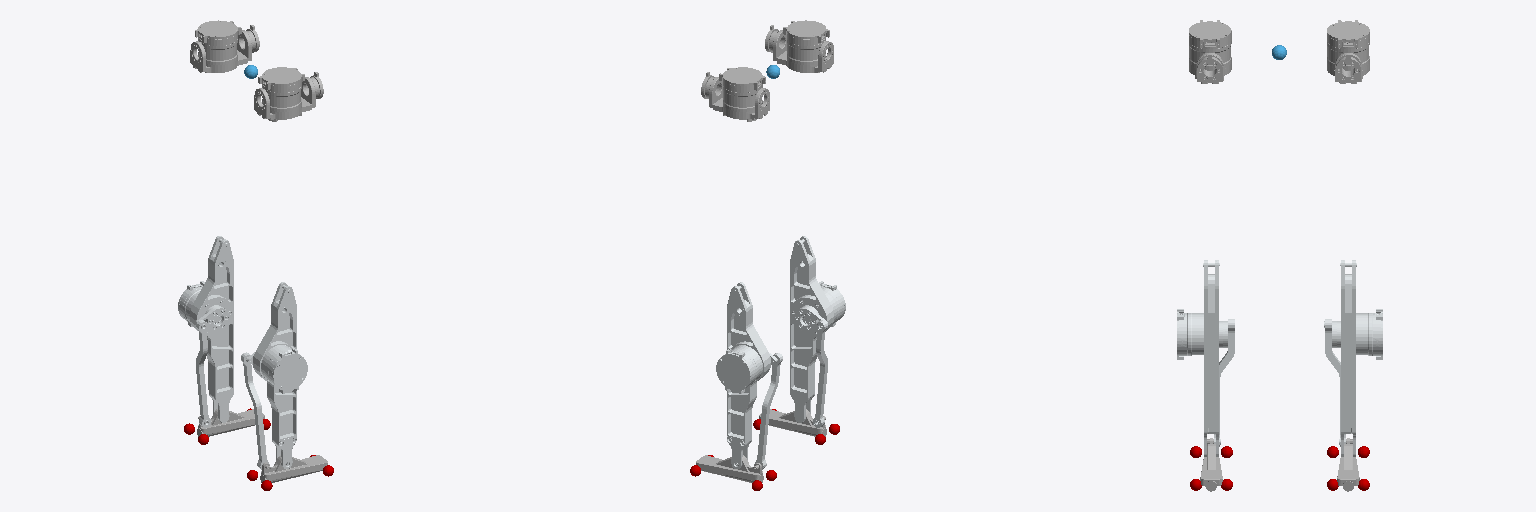
robot.urdf — mvr:
<?xml version="1.0" ?>
<robot name="mvr">

  <material name="grey">
    <color rgba="0.75 0.75 0.75 1"/>
  </material>
  <material name="light_grey">
    <color rgba="0.9 0.92 0.93 1"/>
  </material>
  <material name="red">
    <color rgba="0.8 0 0 1"/>
  </material>

  <link name="base_link">
    <visual>
      <origin xyz="0 0 0" rpy="0 0 0"/>
      <geometry>
        <mesh filename="package://./meshes/base_link.STL"/>
      </geometry>
      <material name="grey"/>
    </visual>
    <collision>
      <origin xyz="0 0 0" rpy="0 0 0"/>
      <geometry>
        <mesh filename="package://./meshes/base_link.STL"/>
      </geometry>
    </collision>
    <inertial>
      <origin xyz="-0.029937 7.6737E-05 0.090915" rpy="0 0 0"/>
      <mass value="4.605827"/>
      <inertia ixx="0.050868" ixy="3E-06" ixz="-0.007583" iyy="0.043318" iyz="-1.4E-05" izz="0.021945"/>
    </inertial>
  </link>

  <link name="imu_link">
    <visual>
        <geometry><sphere radius="0.01"/></geometry>
    </visual>
  </link>
  <joint name="imu_joint" type="fixed">
    <parent link="base_link"/>
    <child link="imu_link"/>
    <origin xyz="0 0 0" rpy="3.14159 0 0"/> </joint>


  <joint name="left_hip_roll_joint" type="revolute">
    <origin xyz="-0.002 0.09 -0.001" rpy="1.5708 0 1.5708"/> <parent link="base_link"/>
    <child link="left_hip_roll_link"/>
    <axis xyz="0 0 1"/>
    <limit lower="-0.4363" upper="1.5708" effort="35.9" velocity="20"/> </joint>

  <link name="left_hip_roll_link">
    <visual>
      <geometry>
        <mesh filename="package://./meshes/left_hip_roll_link.STL"/>
      </geometry>
      <material name="grey"/>
    </visual>
    <collision>
      <geometry>
        <mesh filename="package://./meshes/left_hip_roll_link.STL"/>
      </geometry>
    </collision>
    <inertial>
      <origin xyz="7.3267E-05 -0.0038883 0.003097" rpy="0 0 0"/>
      <mass value="0.48218"/>
      <inertia ixx="0.00033" ixy="0" ixz="0" iyy="0.0003" iyz="0" izz="0.000236"/>
    </inertial>
  </link>

  <joint name="left_hip_yaw_joint" type="revolute">
    <origin xyz="0 0 0" rpy="1.5708 0 0"/> <parent link="left_hip_roll_link"/>
    <child link="left_hip_yaw_link"/>
    <axis xyz="0 0 -1"/>
    <limit lower="-1.5708" upper="1.5708" effort="35.9" velocity="20"/>
  </joint>

  <link name="left_hip_yaw_link">
    <visual>
      <geometry>
        <mesh filename="package://./meshes/left_hip_yaw_link.STL"/>
      </geometry>
      <material name="grey"/>
    </visual>
    <collision>
      <geometry>
        <mesh filename="package://./meshes/left_hip_yaw_link.STL"/>
      </geometry>
    </collision>
    <inertial>
      <origin xyz="0.045057 -0.00050589 0.087695" rpy="0 0 0"/>
      <mass value="0.922933"/>
      <inertia ixx="0.001639" ixy="4E-06" ixz="-9.9E-05" iyy="0.00123" iyz="0" izz="0.001089"/>
    </inertial>
  </link>

  <joint name="left_hip_pitch_joint" type="revolute">
    <origin xyz="0 0 0.09" rpy="1.5708 0 1.5708"/> <parent link="left_hip_yaw_link"/>
    <child link="left_hip_pitch_link"/>
    <axis xyz="0 0 -1"/>
    <limit lower="0" upper="0.8727" effort="54.2" velocity="20"/>
  </joint>

  <link name="left_hip_pitch_link">
    <visual>
      <geometry>
        <mesh filename="package://./meshes/left_hip_pitch_link.STL"/>
      </geometry>
      <material name="grey"/>
    </visual>
    <collision>
      <geometry>
        <mesh filename="package://./meshes/left_hip_pitch_link.STL"/>
      </geometry>
    </collision>
    <inertial>
      <origin xyz="0.0030099 0.028746 -0.023253" rpy="0 0 0"/>
      <mass value="1.401511"/>
      <inertia ixx="0.00726" ixy="-0.00043" ixz="-9.3E-05" iyy="0.001959" iyz="-0.000934" izz="0.007385"/>
    </inertial>
  </link>

  <joint name="left_knee_joint" type="revolute">
    <origin xyz="0 0.24 0" rpy="0 0 0"/> <parent link="left_hip_pitch_link"/>
    <child link="left_knee_link"/>
    <axis xyz="0 0 -1"/>
    <limit lower="-2.62" upper="0" effort="54.2" velocity="20"/>
  </joint>

  <link name="left_knee_link">
    <visual>
      <geometry>
        <mesh filename="package://./meshes/left_knee_link.STL"/>
      </geometry>
      <material name="light_grey"/>
    </visual>
    <collision>
      <geometry>
        <mesh filename="package://./meshes/left_knee_link.STL"/>
      </geometry>
    </collision>
    <inertial>
      <origin xyz="-0.0088034 0.091473 0.0046446" rpy="0 0 0"/>
      <mass value="0.656072"/>
      <inertia ixx="0.00208" ixy="1.8E-05" ixz="-1.1E-05" iyy="0.000356" iyz="6.9E-05" izz="0.002091"/>
    </inertial>
  </link>

  <joint name="left_ankle_pitch_joint" type="revolute">
    <origin xyz="0.005 0.23995 0" rpy="0 0 0"/>
    <parent link="left_knee_link"/>
    <child link="left_ankle_pitch_link"/>
    <axis xyz="0 0 -1"/>
    <limit lower="-1.5" upper="1.5" effort="35.9" velocity="20"/>
  </joint>

  <link name="left_ankle_pitch_link">
    <visual>
      <geometry>
        <mesh filename="package://./meshes/left_ankle_pitch_link.STL"/>
      </geometry>
      <material name="grey"/>
    </visual>
    <collision>
      <geometry>
        <mesh filename="package://./meshes/left_ankle_pitch_link.STL"/>
      </geometry>
    </collision>
    <inertial>
      <origin xyz="0.01623 0.013653 1.0191E-10" rpy="0 0 0"/>
      <mass value="0.072912"/>
      <inertia ixx="6E-06" ixy="-3E-06" ixz="0" iyy="5.9E-05" iyz="0" izz="5.9E-05"/>
    </inertial>

    <collision name="L_foot_1">
      <origin xyz="0.06 0.02 -0.02" rpy="0 0 0"/>
      <geometry><sphere radius="0.008"/></geometry>
    </collision>
    <collision name="L_foot_2">
      <origin xyz="0.06 0.02 0.02" rpy="0 0 0"/>
      <geometry><sphere radius="0.008"/></geometry>
    </collision>
    <collision name="L_foot_3">
      <origin xyz="-0.04 0.02 -0.02" rpy="0 0 0"/>
      <geometry><sphere radius="0.008"/></geometry>
    </collision>
    <collision name="L_foot_4">
      <origin xyz="-0.04 0.02 0.02" rpy="0 0 0"/>
      <geometry><sphere radius="0.008"/></geometry>
    </collision>
    <visual>
        <origin xyz="0.06 0.02 -0.02" rpy="0 0 0"/>
        <geometry><sphere radius="0.008"/></geometry>
        <material name="red"/>
    </visual>
     <visual>
        <origin xyz="0.06 0.02 0.02" rpy="0 0 0"/>
        <geometry><sphere radius="0.008"/></geometry>
        <material name="red"/>
    </visual>
     <visual>
        <origin xyz="-0.04 0.02 -0.02" rpy="0 0 0"/>
        <geometry><sphere radius="0.008"/></geometry>
        <material name="red"/>
    </visual>
     <visual>
        <origin xyz="-0.04 0.02 0.02" rpy="0 0 0"/>
        <geometry><sphere radius="0.008"/></geometry>
        <material name="red"/>
    </visual>
  </link>


  <joint name="right_hip_roll_joint" type="revolute">
    <origin xyz="-0.002 -0.09 -0.001" rpy="1.5708 0 1.5708"/>
    <parent link="base_link"/>
    <child link="right_hip_roll_link"/>
    <axis xyz="0 0 1"/>
    <limit lower="-1.5708" upper="0.4363" effort="35.9" velocity="20"/>
  </joint>

  <link name="right_hip_roll_link">
    <visual>
      <geometry>
        <mesh filename="package://./meshes/right_hip_roll_link.STL"/>
      </geometry>
      <material name="grey"/>
    </visual>
    <collision>
      <geometry>
        <mesh filename="package://./meshes/right_hip_roll_link.STL"/>
      </geometry>
    </collision>
    <inertial>
      <origin xyz="-7.3267E-05 -0.0038883 0.0033035" rpy="0 0 0"/>
      <mass value="0.48218"/>
      <inertia ixx="0.000329" ixy="0" ixz="0" iyy="0.000299" iyz="0" izz="0.000236"/>
    </inertial>
  </link>

  <joint name="right_hip_yaw_joint" type="revolute">
    <origin xyz="0 0 0" rpy="1.5708 0 0"/>
    <parent link="right_hip_roll_link"/>
    <child link="right_hip_yaw_link"/>
    <axis xyz="0 0 -1"/>
    <limit lower="-1.5708" upper="1.5708" effort="35.9" velocity="20"/>
  </joint>

  <link name="right_hip_yaw_link">
    <visual>
      <geometry>
        <mesh filename="package://./meshes/right_hip_yaw_link.STL"/>
      </geometry>
      <material name="grey"/>
    </visual>
    <collision>
      <geometry>
        <mesh filename="package://./meshes/right_hip_yaw_link.STL"/>
      </geometry>
    </collision>
    <inertial>
      <origin xyz="-0.045057 -0.00014884 0.087695" rpy="0 0 0"/>
      <mass value="0.922933"/>
      <inertia ixx="0.001639" ixy="4E-06" ixz="9.9E-05" iyy="0.00123" iyz="0" izz="0.001089"/>
    </inertial>
  </link>

  <joint name="right_hip_pitch_joint" type="revolute">
    <origin xyz="-0.002 0.0071592 0.090867" rpy="1.5708 0 1.5708"/>
    <parent link="right_hip_yaw_link"/>
    <child link="right_hip_pitch_link"/>
    <axis xyz="0 0 1"/>
    <limit lower="-0.8727" upper="0" effort="54.2" velocity="20"/>
  </joint>

  <link name="right_hip_pitch_link">
    <visual>
      <geometry>
        <mesh filename="package://./meshes/right_hip_pitch_link.STL"/>
      </geometry>
      <material name="light_grey"/>
    </visual>
    <collision>
      <geometry>
        <mesh filename="package://./meshes/right_hip_pitch_link.STL"/>
      </geometry>
    </collision>
    <inertial>
      <origin xyz="-0.0033304 0.032142 0.025848" rpy="0 0 0"/>
      <mass value="1.424298"/>
      <inertia ixx="0.007508" ixy="-0.000445" ixz="0.000103" iyy="0.001985" iyz="0.000972" izz="0.007634"/>
    </inertial>
  </link>

  <joint name="right_knee_joint" type="revolute">
    <origin xyz="-0.0071592 0.23913 0.00375" rpy="0 0 0"/>
    <parent link="right_hip_pitch_link"/>
    <child link="right_knee_link"/>
    <axis xyz="0 0 1"/>
    <limit lower="0" upper="2.62" effort="54.2" velocity="20"/>
  </joint>

  <link name="right_knee_link">
    <visual>
      <geometry>
        <mesh filename="package://./meshes/right_knee_link.STL"/>
      </geometry>
      <material name="light_grey"/>
    </visual>
    <collision>
      <geometry>
        <mesh filename="package://./meshes/right_knee_link.STL"/>
      </geometry>
    </collision>
    <inertial>
      <origin xyz="-0.0088065 0.091327 -0.0044102" rpy="0 0 0"/>
      <mass value="0.656072"/>
      <inertia ixx="0.002082" ixy="1.7E-05" ixz="1.1E-05" iyy="0.000356" iyz="-7.1E-05" izz="0.002094"/>
    </inertial>
  </link>

  <joint name="right_ankle_pitch_joint" type="revolute">
    <origin xyz="0.005 0.23995 5E-05" rpy="0 0 0"/>
    <parent link="right_knee_link"/>
    <child link="right_ankle_pitch_link"/>
    <axis xyz="0 0 -1"/>
    <limit lower="-1.5" upper="1.5" effort="35.9" velocity="20"/>
  </joint>

  <link name="right_ankle_pitch_link">
    <visual>
      <geometry>
        <mesh filename="package://./meshes/right_ankle_pitch_link.STL"/>
      </geometry>
      <material name="grey"/>
    </visual>
    <collision>
      <geometry>
        <mesh filename="package://./meshes/right_ankle_pitch_link.STL"/>
      </geometry>
    </collision>
    <inertial>
      <origin xyz="0.01623 0.013653 4.8944E-05" rpy="0 0 0"/>
      <mass value="0.072912"/>
      <inertia ixx="6E-06" ixy="-3E-06" ixz="0" iyy="5.9E-05" iyz="0" izz="5.9E-05"/>
    </inertial>

    <collision name="R_foot_1">
      <origin xyz="0.06 0.02 -0.02" rpy="0 0 0"/>
      <geometry><sphere radius="0.008"/></geometry>
    </collision>
    <collision name="R_foot_2">
      <origin xyz="0.06 0.02 0.02" rpy="0 0 0"/>
      <geometry><sphere radius="0.008"/></geometry>
    </collision>
    <collision name="R_foot_3">
      <origin xyz="-0.04 0.02 -0.02" rpy="0 0 0"/>
      <geometry><sphere radius="0.008"/></geometry>
    </collision>
    <collision name="R_foot_4">
      <origin xyz="-0.04 0.02 0.02" rpy="0 0 0"/>
      <geometry><sphere radius="0.008"/></geometry>
    </collision>
    <visual>
        <origin xyz="0.06 0.02 -0.02" rpy="0 0 0"/>
        <geometry><sphere radius="0.008"/></geometry>
        <material name="red"/>
    </visual>
     <visual>
        <origin xyz="0.06 0.02 0.02" rpy="0 0 0"/>
        <geometry><sphere radius="0.008"/></geometry>
        <material name="red"/>
    </visual>
     <visual>
        <origin xyz="-0.04 0.02 -0.02" rpy="0 0 0"/>
        <geometry><sphere radius="0.008"/></geometry>
        <material name="red"/>
    </visual>
     <visual>
        <origin xyz="-0.04 0.02 0.02" rpy="0 0 0"/>
        <geometry><sphere radius="0.008"/></geometry>
        <material name="red"/>
    </visual>
  </link>

</robot>

--- What the picture shows (computed from the rendered views, not written in the file) ---
Views: 3 orthographic renders of the robot side by side, from view 1: azimuth 30°, elevation 25°; view 2: azimuth 150°, elevation 25°; view 3: azimuth 270°, elevation 25°.
Robot: mvr — 12 links, 11 joints (10 revolute, 1 fixed); root link base_link; default pose: all joints at 0.
Visible links, largest first — view 1: left_knee_link, right_knee_link, right_hip_roll_link, left_hip_roll_link, right_ankle_pitch_link, left_ankle_pitch_link; view 2: right_knee_link, left_knee_link, left_hip_roll_link, right_hip_roll_link, left_ankle_pitch_link, right_ankle_pitch_link; view 3: left_knee_link, right_knee_link, left_hip_roll_link, right_hip_roll_link, right_ankle_pitch_link, left_ankle_pitch_link.
Boxes of the visible links, x1,y1,x2,y2 form: left_knee_link: (178, 236, 233, 427); right_knee_link: (241, 282, 307, 469); right_hip_roll_link: (254, 67, 323, 121); left_hip_roll_link: (190, 20, 259, 72); right_ankle_pitch_link: (247, 455, 333, 490); left_ankle_pitch_link: (184, 408, 270, 444); right_knee_link: (790, 236, 845, 427); left_knee_link: (716, 282, 782, 469); left_hip_roll_link: (701, 67, 769, 121); right_hip_roll_link: (765, 20, 833, 72); left_ankle_pitch_link: (690, 455, 776, 490); right_ankle_pitch_link: (753, 409, 839, 444); left_knee_link: (1324, 260, 1382, 456); right_knee_link: (1177, 260, 1234, 456); left_hip_roll_link: (1327, 20, 1369, 83); right_hip_roll_link: (1189, 20, 1231, 83); right_ankle_pitch_link: (1190, 438, 1232, 491); left_ankle_pitch_link: (1327, 438, 1369, 491).
Size in the robot's own frame: 0.1214 by 0.269 by 0.63 metres.
6 mesh visuals loaded from 11 distinct referenced files (6 binary STL); not drawn: 5 (reference not matched to a file when rendering).
